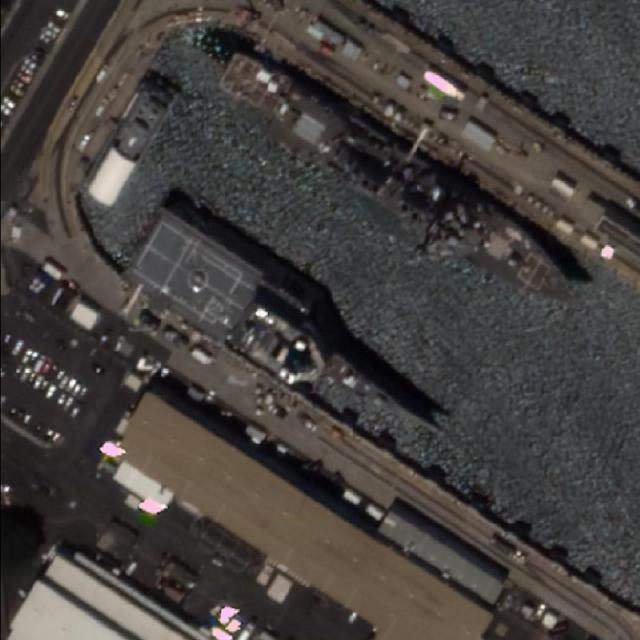Destroyer: (210, 46, 590, 319)
Frigate: (117, 206, 471, 468)
